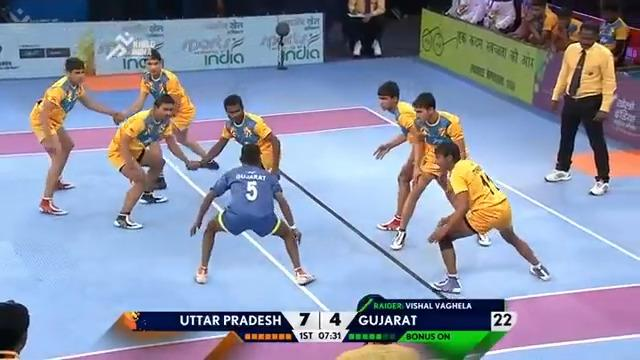Player: (426, 140, 551, 296), (389, 91, 491, 250), (197, 93, 301, 244), (114, 48, 218, 194), (29, 56, 122, 215), (543, 20, 617, 195), (107, 93, 195, 229), (372, 80, 423, 231), (200, 93, 282, 181)
Raider: (189, 143, 316, 286)
referee: (0, 299, 29, 359)
